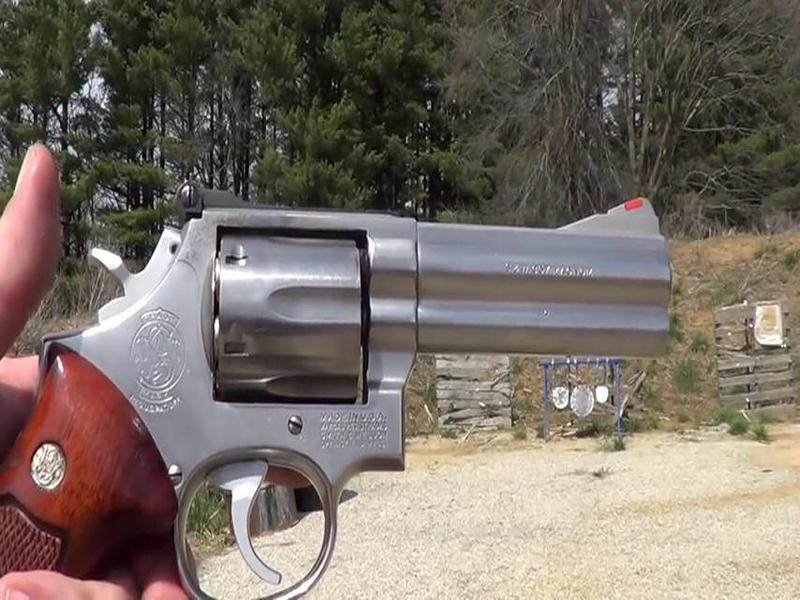Revolver: (33, 181, 714, 539)
